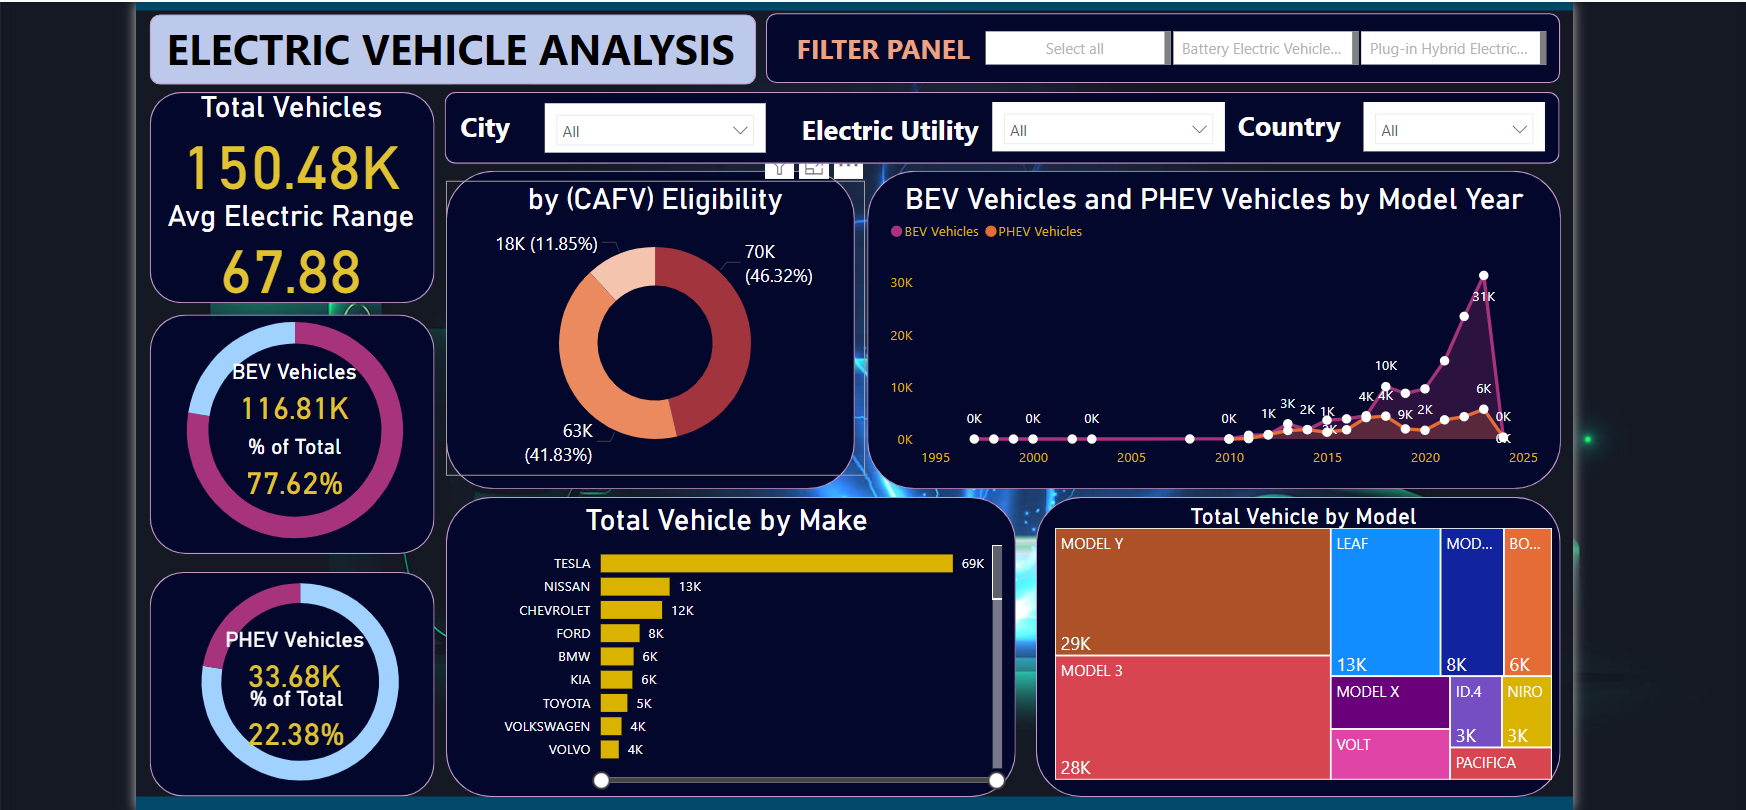

Layout of this report page (visuals, bound fields, positions):
{"tool":"powerbi","page":{"name":"Page 1","canvas":[1280,720],"ordinal":0},"visuals":[{"type":"shape","box":[12.8,11.3,540,62.4],"z":0},{"type":"textbox","box":[22.7,11.3,535.7,63.8],"z":1000},{"type":"shape","box":[11.8,80.6,253.6,188.1],"z":2000},{"type":"card","title":"Total Vehicles","fields":{"Values":["Electric_Vehicle_Population_Data.Total Vehicle"]},"box":[19.8,78,236.7,99.2],"z":3000},{"type":"card","title":"Avg Electric Range","fields":{"Values":["Avg(Electric_Vehicle_Population_Data.Electric Range)"]},"box":[18.4,174.3,238.1,92.1],"z":4000},{"type":"shape","box":[11.8,278.8,253.6,213.3],"z":5000},{"type":"donutChart","fields":{"Category":["Electric_Vehicle_Population_Data.Electric Vehicle Type"],"Y":["Electric_Vehicle_Population_Data.Total Vehicle"]},"box":[0,256.5,283.5,250.9],"z":6000},{"type":"card","title":"BEV Vehicles","fields":{"Values":["Electric_Vehicle_Population_Data.BEV Vehicles"]},"box":[22.4,317.9,237.3,67.2],"z":7000},{"type":"card","title":"% of Total","fields":{"Values":["Electric_Vehicle_Population_Data.% of BEV"]},"box":[23.9,385.1,235.8,67.2],"z":8000},{"type":"shape","box":[650.7,150.7,617.9,283.6],"z":9000},{"type":"areaChart","fields":{"Category":["Electric_Vehicle_Population_Data.Model Year"],"Y":["Electric_Vehicle_Population_Data.BEV Vehicles","Electric_Vehicle_Population_Data.PHEV Vehicles"]},"box":[667.2,159.7,586.6,264.2],"z":10000},{"type":"shape","box":[11.8,507.3,253.6,199.9],"z":11000},{"type":"shape","box":[276.1,440.3,507.5,267.2],"z":12000},{"type":"barChart","fields":{"Category":["Electric_Vehicle_Population_Data.Make"],"Y":["Electric_Vehicle_Population_Data.Total Vehicle"]},"box":[276.1,444.8,500,258.2],"z":13000},{"type":"shape","box":[276.1,150.7,364.2,283.6],"z":14000},{"type":"donutChart","title":"by (CAFV) Eligibility","fields":{"Category":["Electric_Vehicle_Population_Data.Clean Alternative Fuel Vehicle (CAFV) Eligibility"],"Y":["Electric_Vehicle_Population_Data.Total Vehicle"]},"box":[276.4,158.7,372.8,263.6],"z":15000},{"type":"donutChart","fields":{"Category":["Electric_Vehicle_Population_Data.Electric Vehicle Type"],"Y":["Electric_Vehicle_Population_Data.Total Vehicle"]},"box":[8.5,490.4,275,229.6],"z":16000},{"type":"card","title":"PHEV Vehicles","fields":{"Values":["Electric_Vehicle_Population_Data.PHEV Vehicles"]},"box":[23.9,556.7,235.8,67.2],"z":17000},{"type":"card","title":"% of Total","fields":{"Values":["Electric_Vehicle_Population_Data.% of PHEV"]},"box":[24.1,609.4,236.7,66.6],"z":18000},{"type":"shape","box":[801.5,440.3,467.2,267.2],"z":19000},{"type":"shape","box":[275.5,80.6,992.8,63.8],"z":20000},{"type":"textbox","box":[283.9,90.7,65.5,45.4],"z":21000},{"type":"slicer","fields":{"Values":["Electric_Vehicle_Population_Data.Electric Utility"]},"box":[762.5,89.3,206.9,43.9],"z":22000},{"type":"textbox","box":[588.2,92.1,181.4,45.4],"z":23000},{"type":"slicer","fields":{"Values":["Electric_Vehicle_Population_Data.City"]},"box":[364.5,90.7,196.5,43.7],"z":24000},{"type":"shape","box":[561,10.1,707.2,62.2],"z":25000},{"type":"textbox","box":[582.9,20.2,186.5,45.4],"z":26000},{"type":"slicer","fields":{"Values":["Electric_Vehicle_Population_Data.County"]},"box":[1092.8,89.3,161.6,43.9],"z":27000},{"type":"textbox","box":[976.5,89.3,116.2,45.4],"z":28000},{"type":"treemap","fields":{"Group":["Electric_Vehicle_Population_Data.Model"],"Values":["Electric_Vehicle_Population_Data.Total Vehicle"]},"box":[813.4,444.8,452.2,252.2],"z":29000},{"type":"slicer","fields":{"Values":["Electric_Vehicle_Population_Data.Electric Vehicle Type"]},"box":[729.9,18.4,549.9,43.9],"z":30000}]}

Visuals, with their boxes on the page's 1280x720 design canvas (x1, y1, x2, y2). These are canvas units, not pixel positions in the 1746x810 screenshot, which may show the page scaled, cropped or inside an application window:
shape: (13,11,553,74)
textbox: (23,11,558,75)
shape: (12,81,265,269)
"Total Vehicles" card: (20,78,256,177)
"Avg Electric Range" card: (18,174,256,266)
shape: (12,279,265,492)
donutChart - Electric_Vehicle_Population_Data.Electric Vehicle Type x Electric_Vehicle_Population_Data.Total Vehicle: (0,256,284,507)
"BEV Vehicles" card: (22,318,260,385)
"% of Total" card: (24,385,260,452)
shape: (651,151,1269,434)
areaChart - Electric_Vehicle_Population_Data.Model Year x Electric_Vehicle_Population_Data.BEV Vehicles: (667,160,1254,424)
shape: (12,507,265,707)
shape: (276,440,784,708)
barChart - Electric_Vehicle_Population_Data.Make x Electric_Vehicle_Population_Data.Total Vehicle: (276,445,776,703)
shape: (276,151,640,434)
"by (CAFV) Eligibility" donutChart: (276,159,649,422)
donutChart - Electric_Vehicle_Population_Data.Electric Vehicle Type x Electric_Vehicle_Population_Data.Total Vehicle: (8,490,284,720)
"PHEV Vehicles" card: (24,557,260,624)
"% of Total" card: (24,609,261,676)
shape: (802,440,1269,708)
shape: (276,81,1268,144)
textbox: (284,91,349,136)
slicer - Electric_Vehicle_Population_Data.Electric Utility: (762,89,969,133)
textbox: (588,92,770,138)
slicer - Electric_Vehicle_Population_Data.City: (364,91,561,134)
shape: (561,10,1268,72)
textbox: (583,20,769,66)
slicer - Electric_Vehicle_Population_Data.County: (1093,89,1254,133)
textbox: (976,89,1093,135)
treemap - Electric_Vehicle_Population_Data.Model x Electric_Vehicle_Population_Data.Total Vehicle: (813,445,1266,697)
slicer - Electric_Vehicle_Population_Data.Electric Vehicle Type: (730,18,1280,62)
